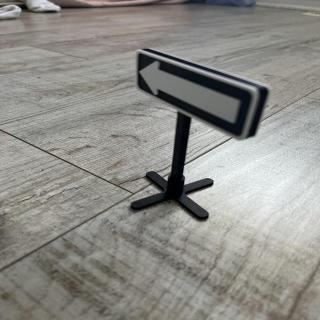sign_oneway_left: (136, 47, 272, 142)
